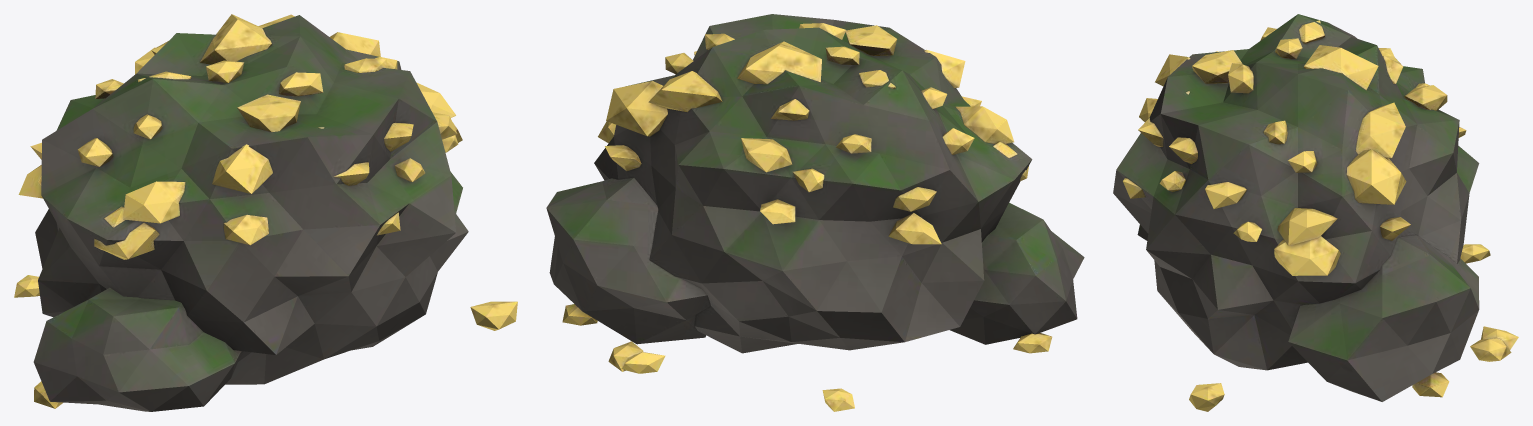
The model's file is gold_ore.glb.
3 renders of one model, left to right at view 1: azimuth 30°, elevation 25°; view 2: azimuth 150°, elevation 25°; view 3: azimuth 270°, elevation 25°, orthographic. The views are drawn at different scales.
Visible parts, largest first — view 1: GoldOre; view 2: GoldOre; view 3: GoldOre.
Part boxes in pixels (x1=…): GoldOre: x1=14, y1=14, x2=517, y2=411; GoldOre: x1=546, y1=14, x2=1084, y2=411; GoldOre: x1=1113, y1=14, x2=1518, y2=411.
Bounding box in the file's own units: 2.32 × 1.47 × 1.83.
2 materials, 2 textured.
